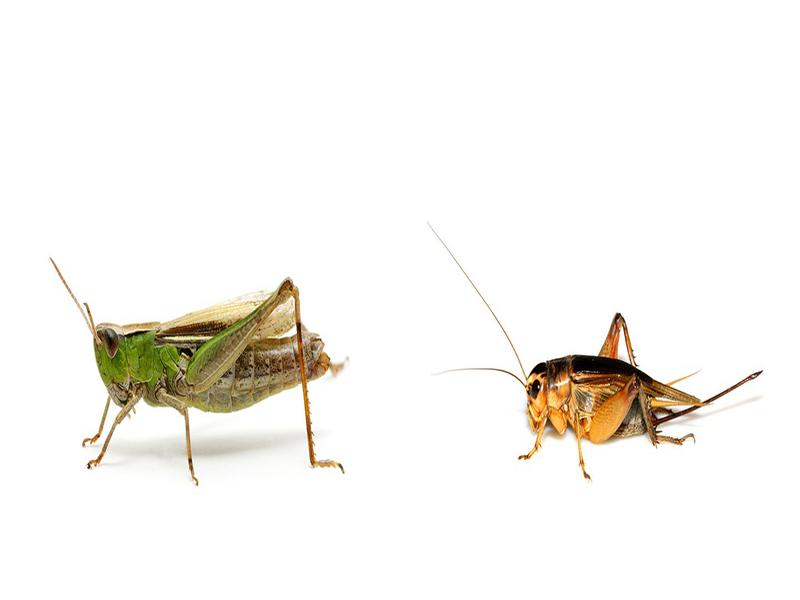Grasshopper: (56, 272, 366, 467), (473, 306, 715, 483)
